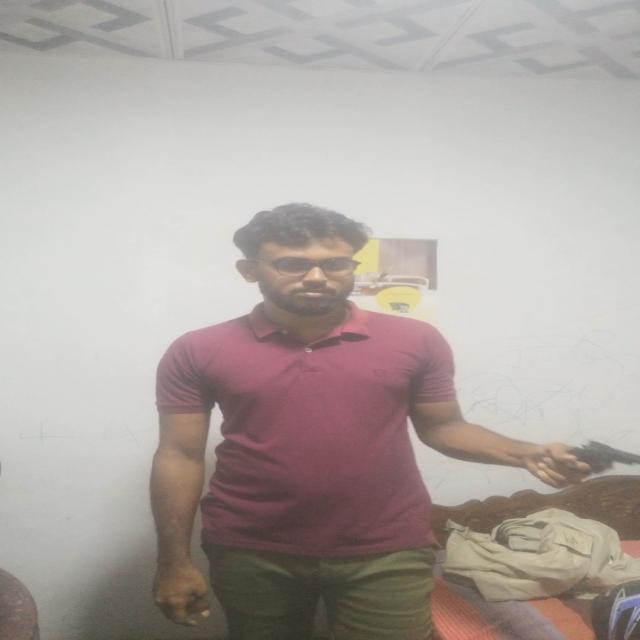Gun_Holder: (536, 433, 640, 482)
Person: (125, 201, 590, 640)
